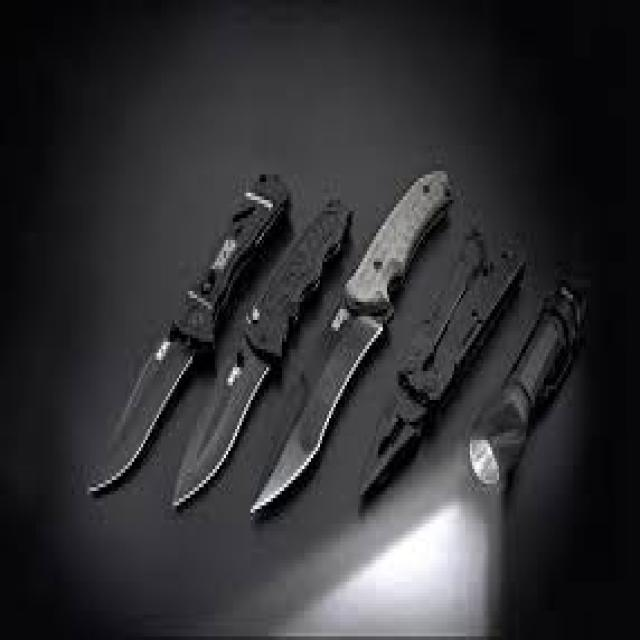knives: (77, 116, 414, 563)
